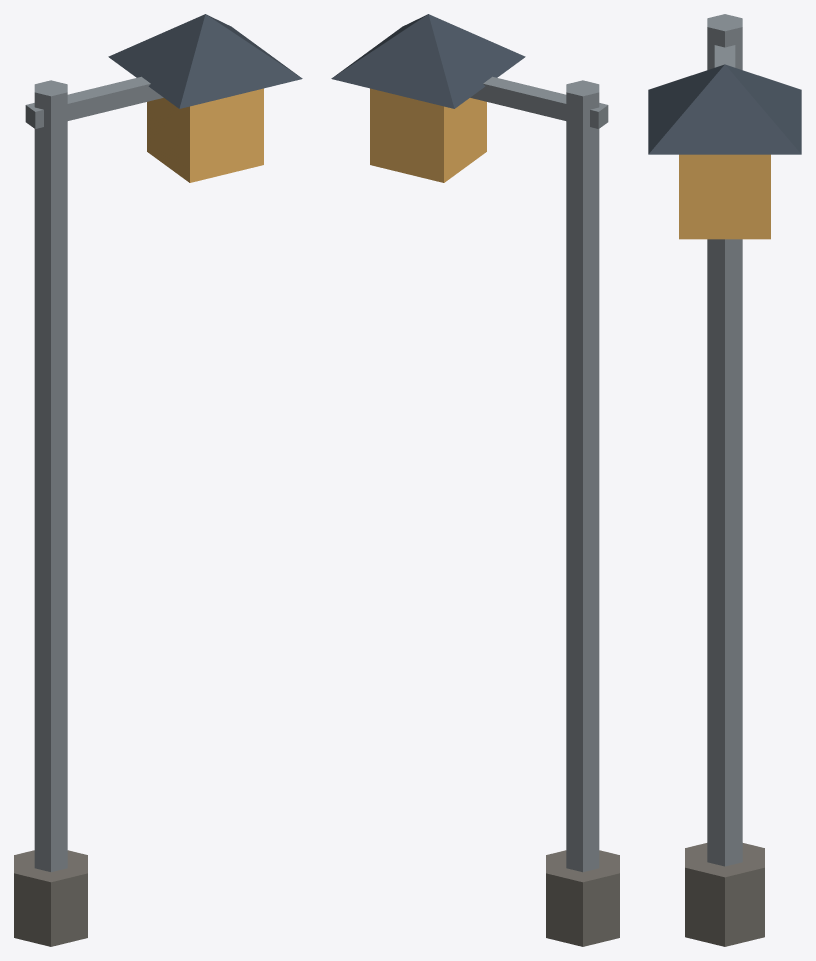
Rendered from prop_street_lamp.fbx.
The picture shows the model from 3 angles, left to right: view 1: azimuth 30°, elevation 25°; view 2: azimuth 150°, elevation 25°; view 3: azimuth 270°, elevation 25°; orthographic projection. The views are drawn at different scales.
Visible parts, largest first — view 1: prop_street_lamp; view 2: prop_street_lamp; view 3: prop_street_lamp.
Boxes of the visible parts, box(x1,y1,x2,y2) form: prop_street_lamp: box(14, 14, 302, 946); prop_street_lamp: box(331, 14, 619, 946); prop_street_lamp: box(648, 14, 801, 946).
Bounding box in the file's own units: 1.23 × 4.07 × 0.6.
Materials: 2 (2 with a texture image).
